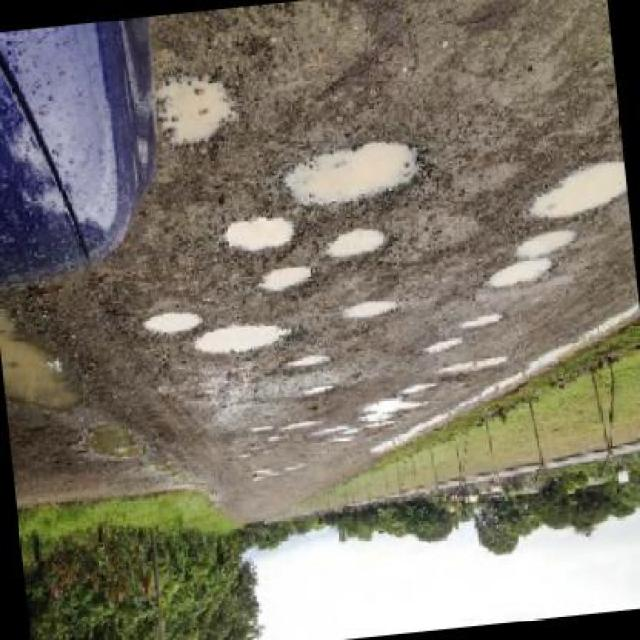pothole: (282, 136, 431, 218), (153, 68, 244, 152), (524, 158, 630, 225), (194, 323, 300, 359), (224, 213, 302, 261), (484, 254, 559, 294), (326, 227, 388, 265), (257, 260, 318, 298), (517, 226, 583, 260), (145, 308, 209, 341), (440, 358, 511, 384), (344, 296, 401, 324), (363, 397, 429, 420), (279, 352, 336, 376), (422, 339, 468, 358), (463, 314, 508, 332), (400, 382, 442, 400), (302, 384, 340, 401)
